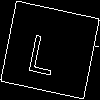L: (25, 25, 61, 76)
